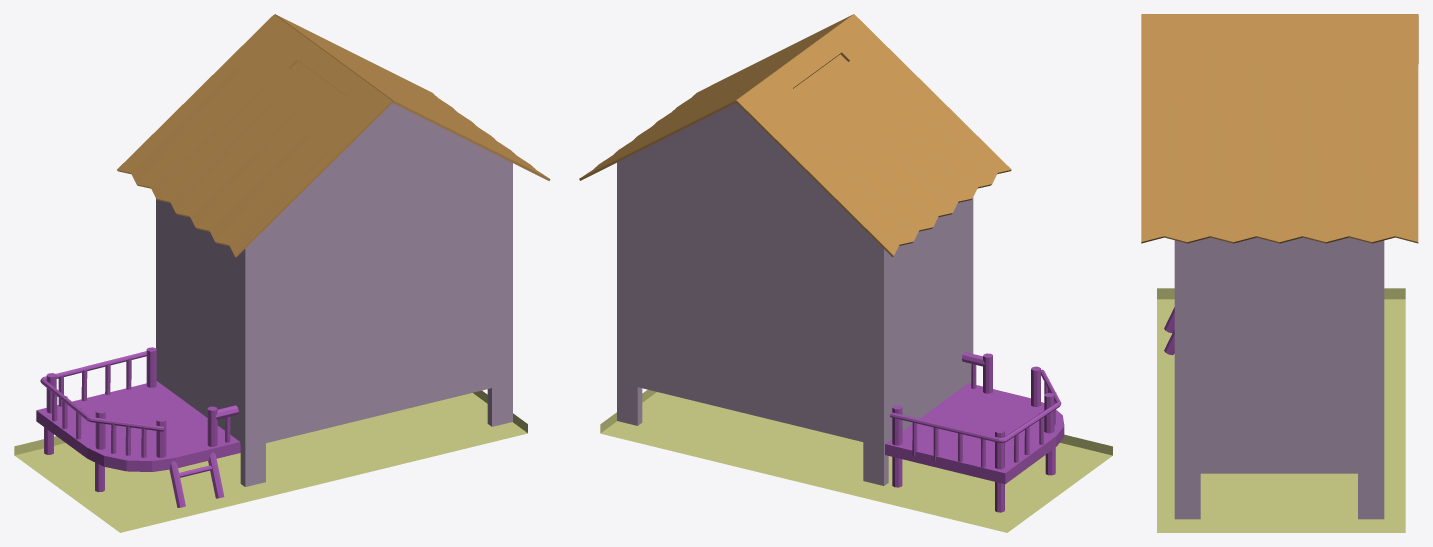
3 views of the same model, side by side, from view 1: azimuth 30°, elevation 25°; view 2: azimuth 150°, elevation 25°; view 3: azimuth 270°, elevation 25° (orthographic). The views are drawn at different scales.
Parts seen in each view (by area): view 1: world; view 2: world; view 3: world.
Part boxes in pixels (x1,y1,x2,y2): world: (14,14,550,532); world: (579,14,1112,532); world: (1141,14,1418,532).
Bounding box in the file's own units: 1 × 0.8404 × 0.4831.
